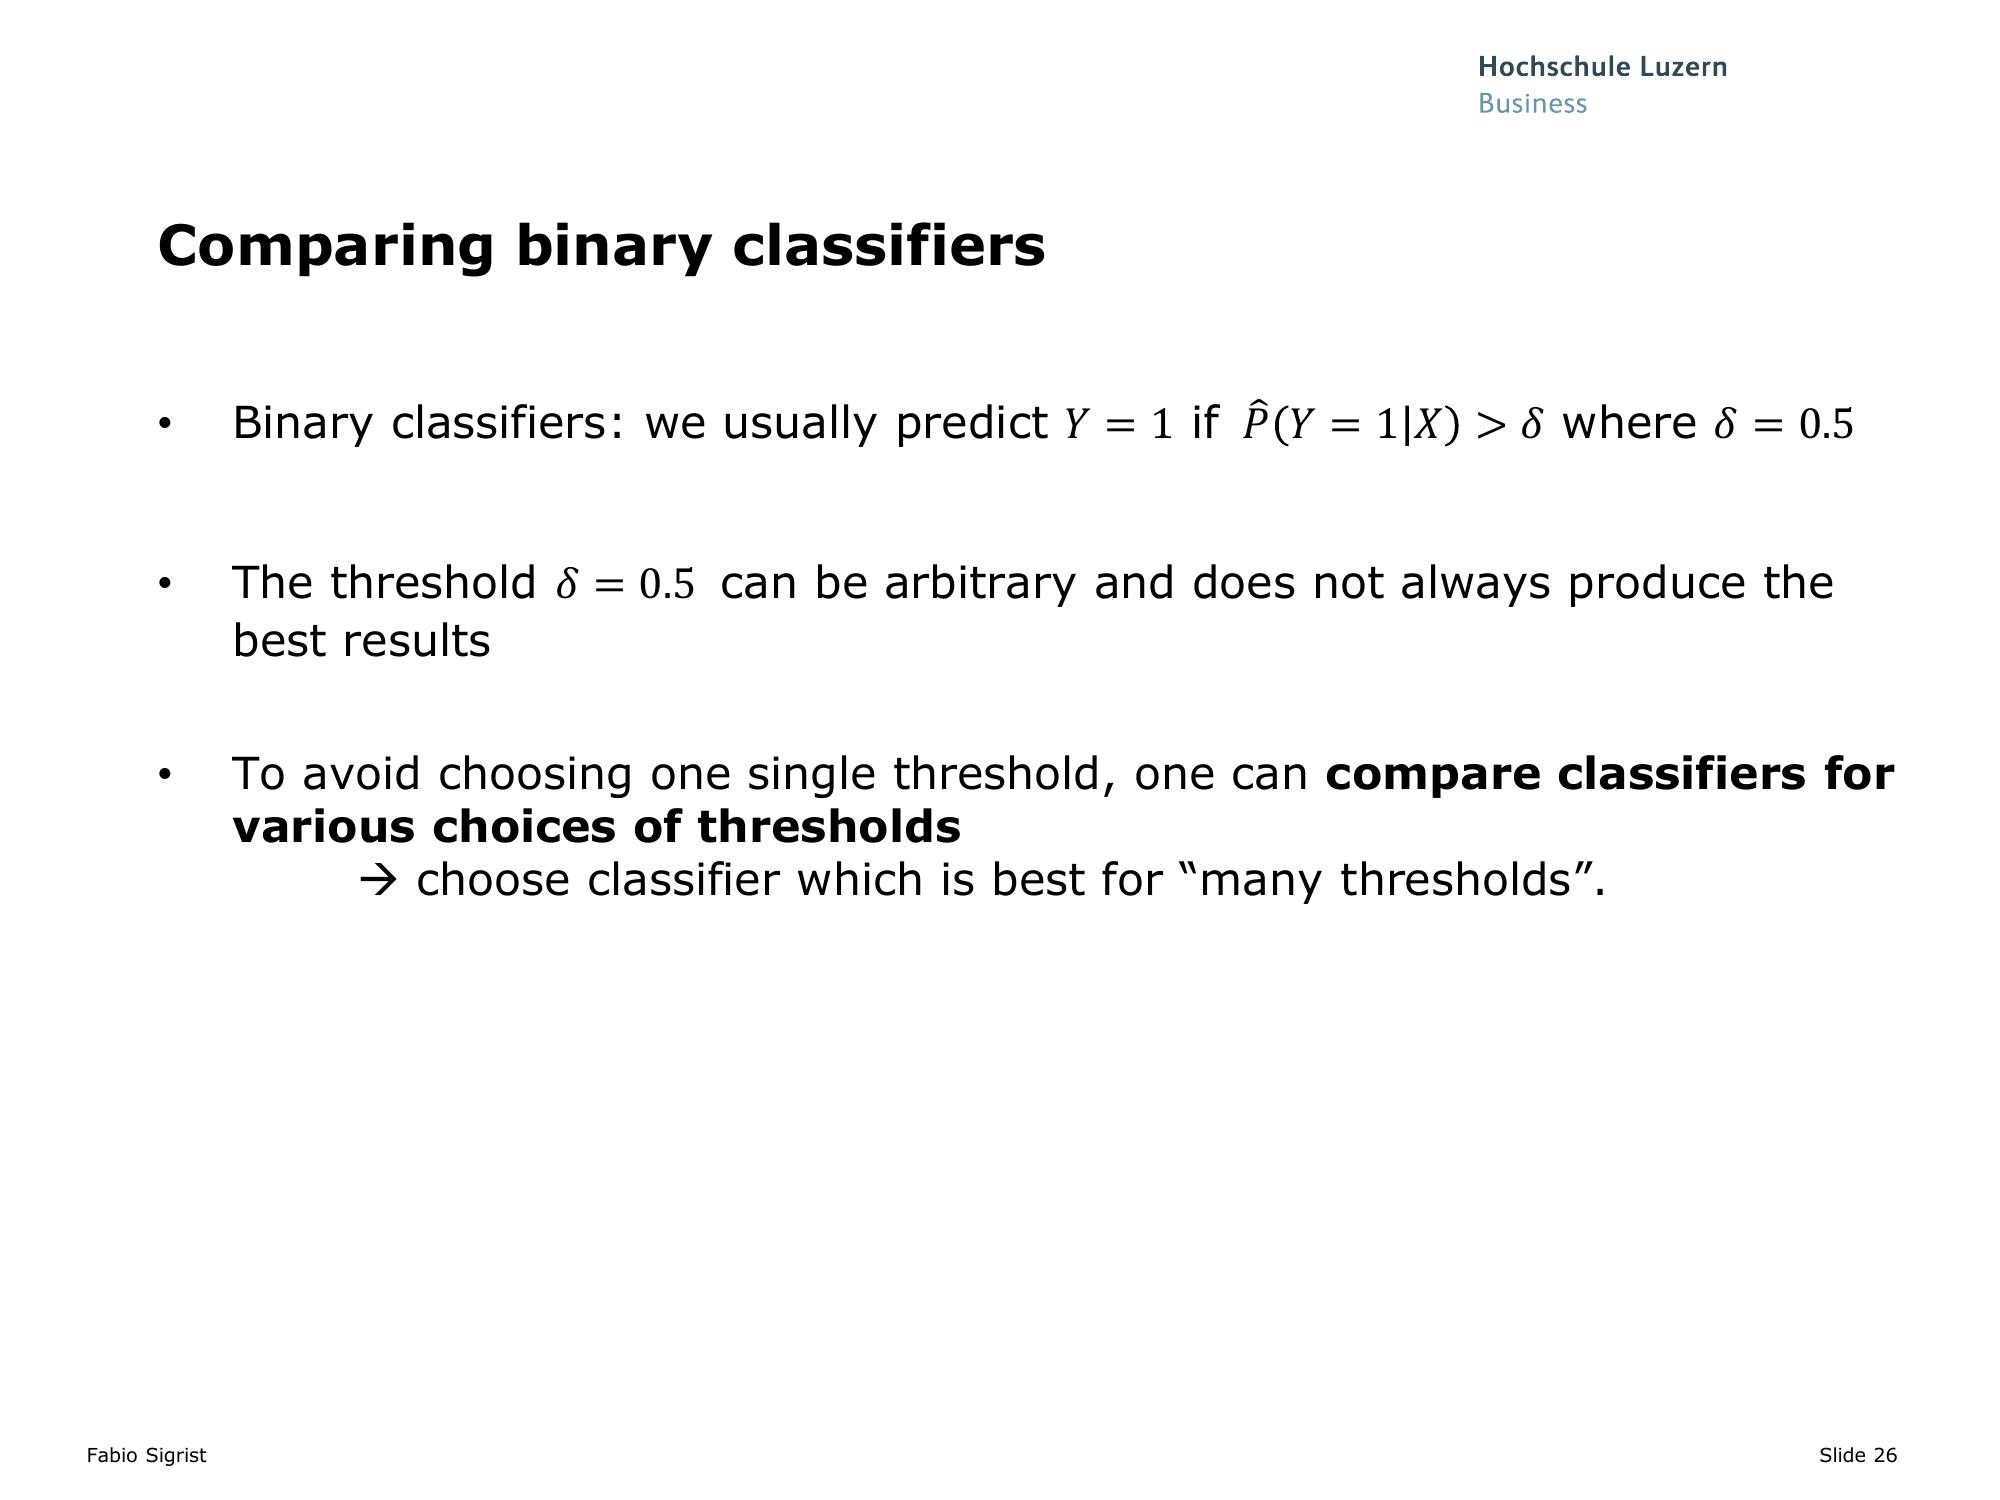Title: (142, 206, 1085, 277)
